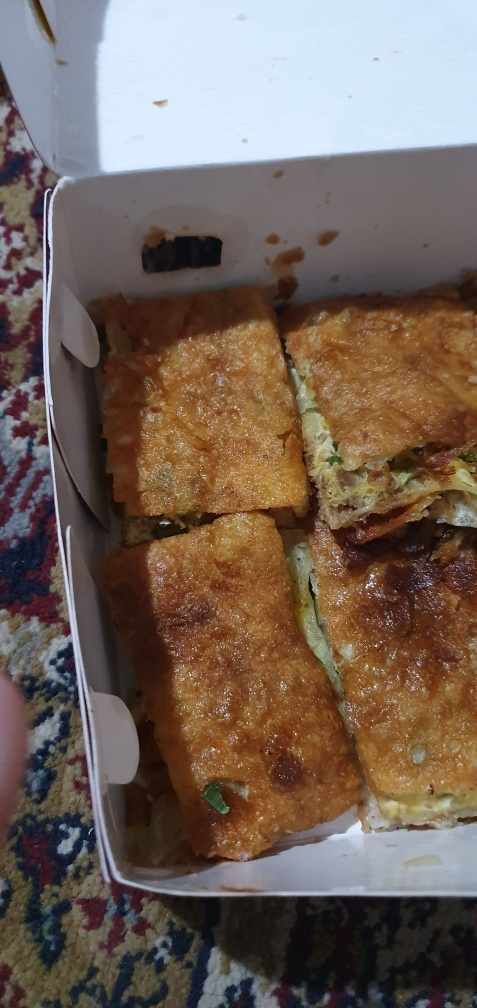martabak telor: (87, 515, 353, 848), (294, 508, 477, 834), (83, 279, 311, 518), (283, 266, 477, 511)
